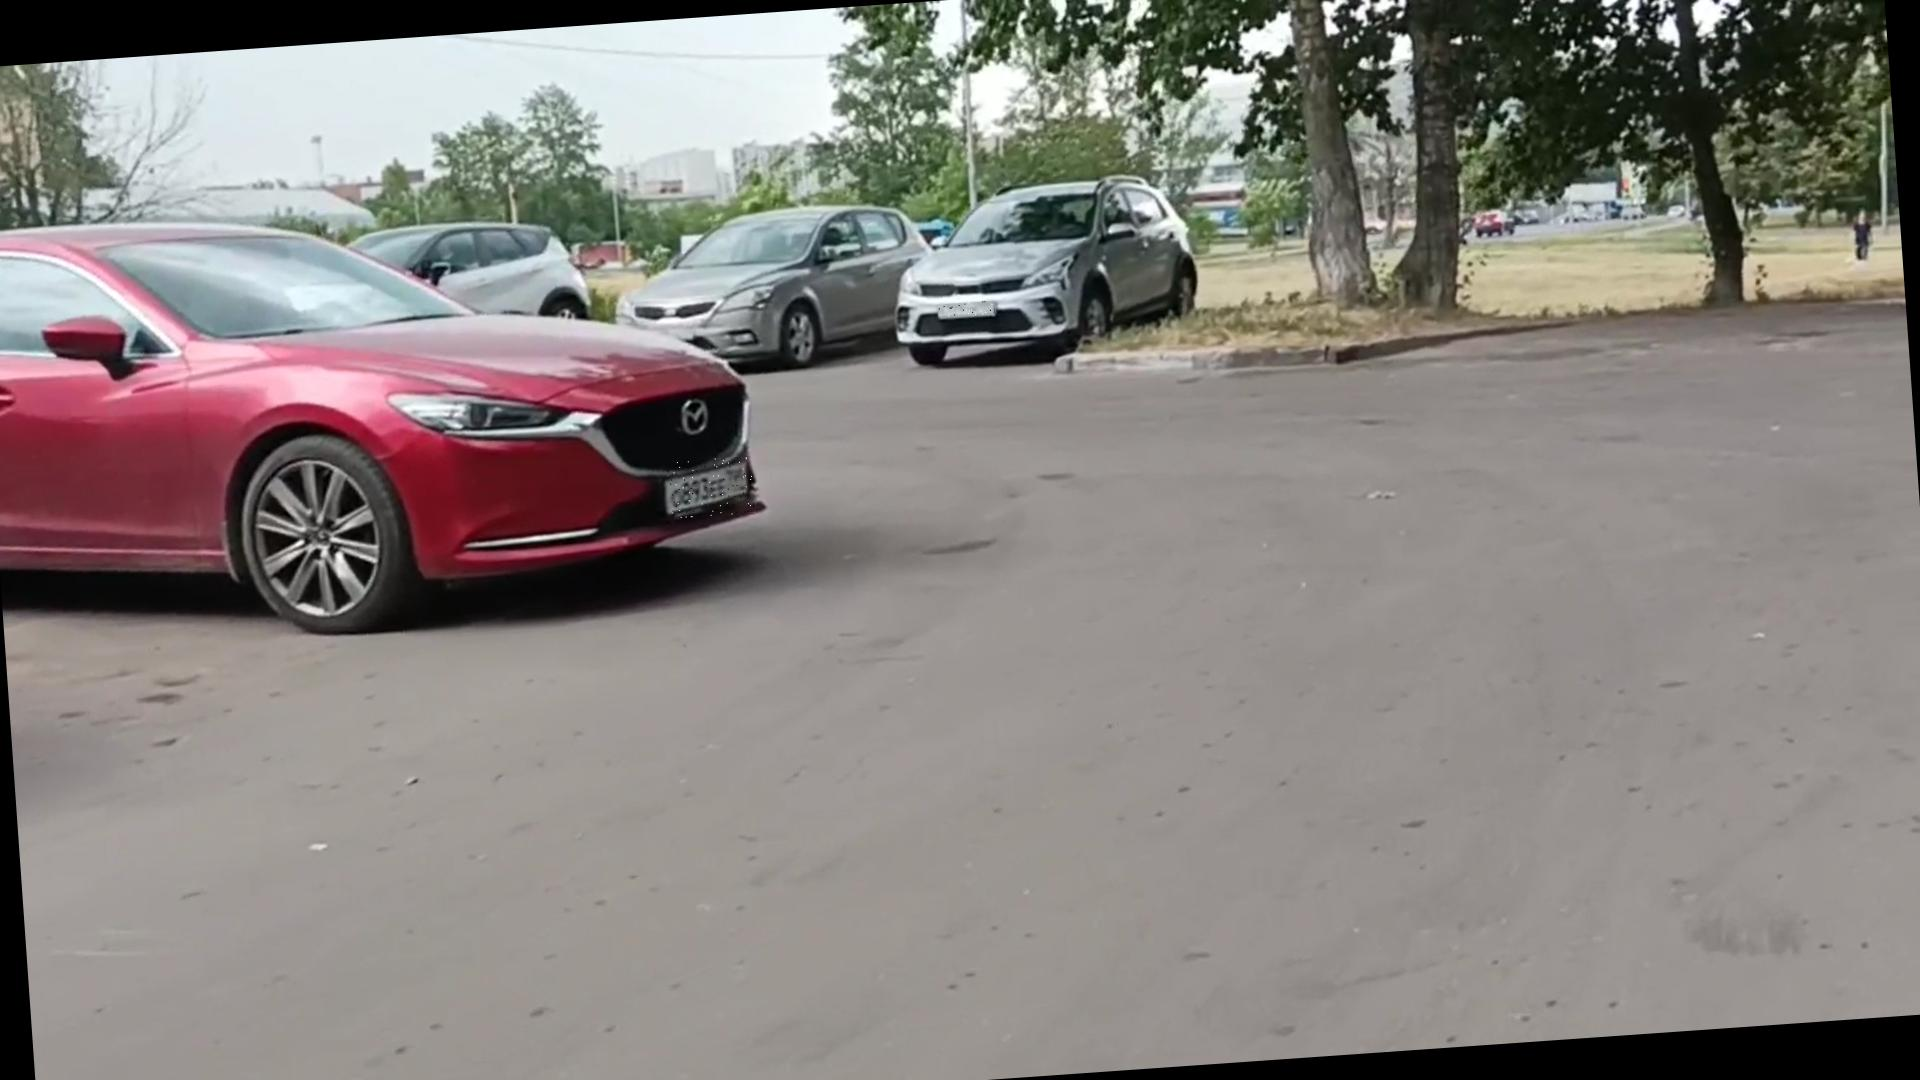plate: (670, 457, 757, 520), (939, 302, 997, 319)
